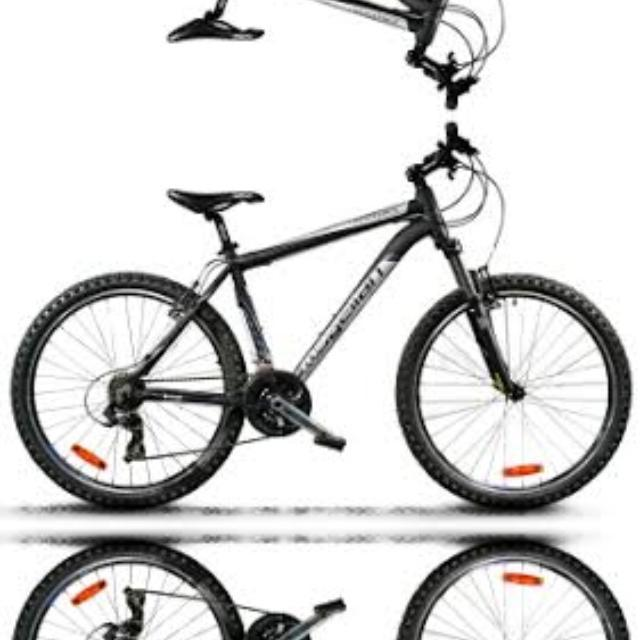obstacle: (6, 115, 640, 518), (6, 0, 639, 115), (6, 532, 639, 640)
